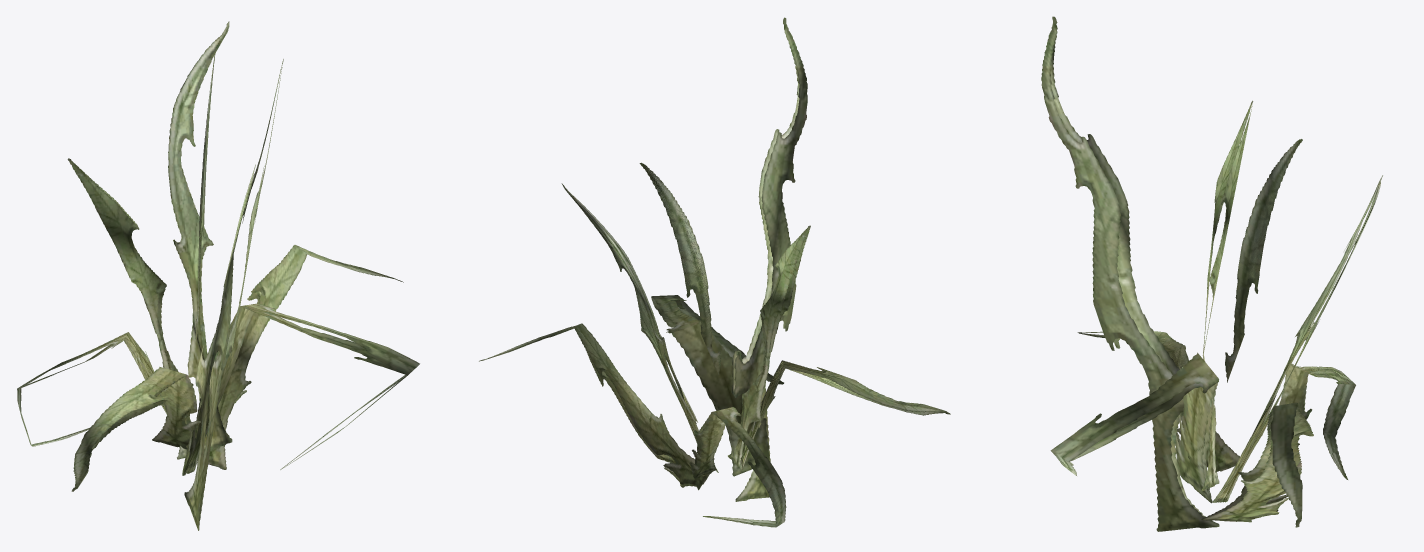
File: core_leaf_razorgrass_frst_a1_l1.fbx
3 renders of one model, left to right at view 1: azimuth 30°, elevation 25°; view 2: azimuth 150°, elevation 25°; view 3: azimuth 270°, elevation 25°, orthographic. The views are drawn at different scales.
Parts seen in each view (by area): view 1: mesh_node; view 2: mesh_node; view 3: mesh_node.
Boxes of the visible parts, bbox=[...] form: mesh_node: bbox=[17, 21, 419, 530]; mesh_node: bbox=[479, 17, 950, 527]; mesh_node: bbox=[1041, 16, 1382, 531].
Size of the model in its own units: 1.38 by 1.51 by 1.07.
